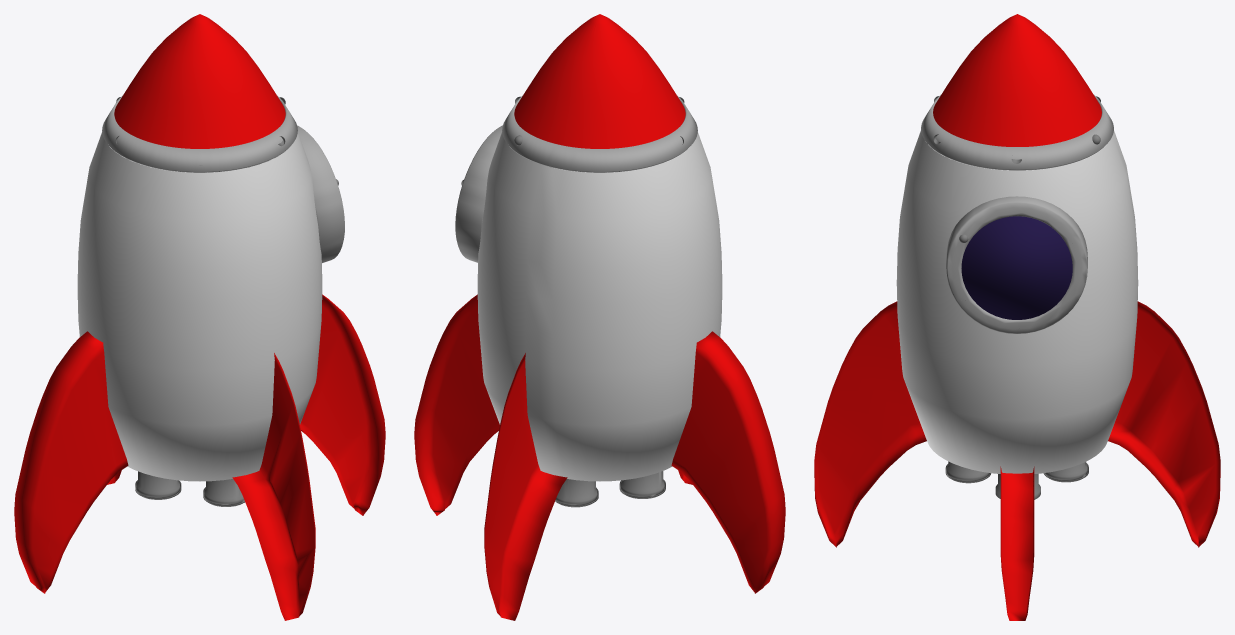
File: toy_rocket.glb
3 renders of one model, left to right at view 1: azimuth 30°, elevation 25°; view 2: azimuth 150°, elevation 25°; view 3: azimuth 270°, elevation 25°, orthographic.
Visible parts, largest first — view 1: toy_rocket; view 2: toy_rocket; view 3: toy_rocket.
Part boxes in pixels (bbox=[...]): toy_rocket: bbox=[14, 14, 385, 620]; toy_rocket: bbox=[414, 14, 785, 620]; toy_rocket: bbox=[814, 14, 1220, 620].
Bounding box in the file's own units: 23.61 × 34 × 23.61.
